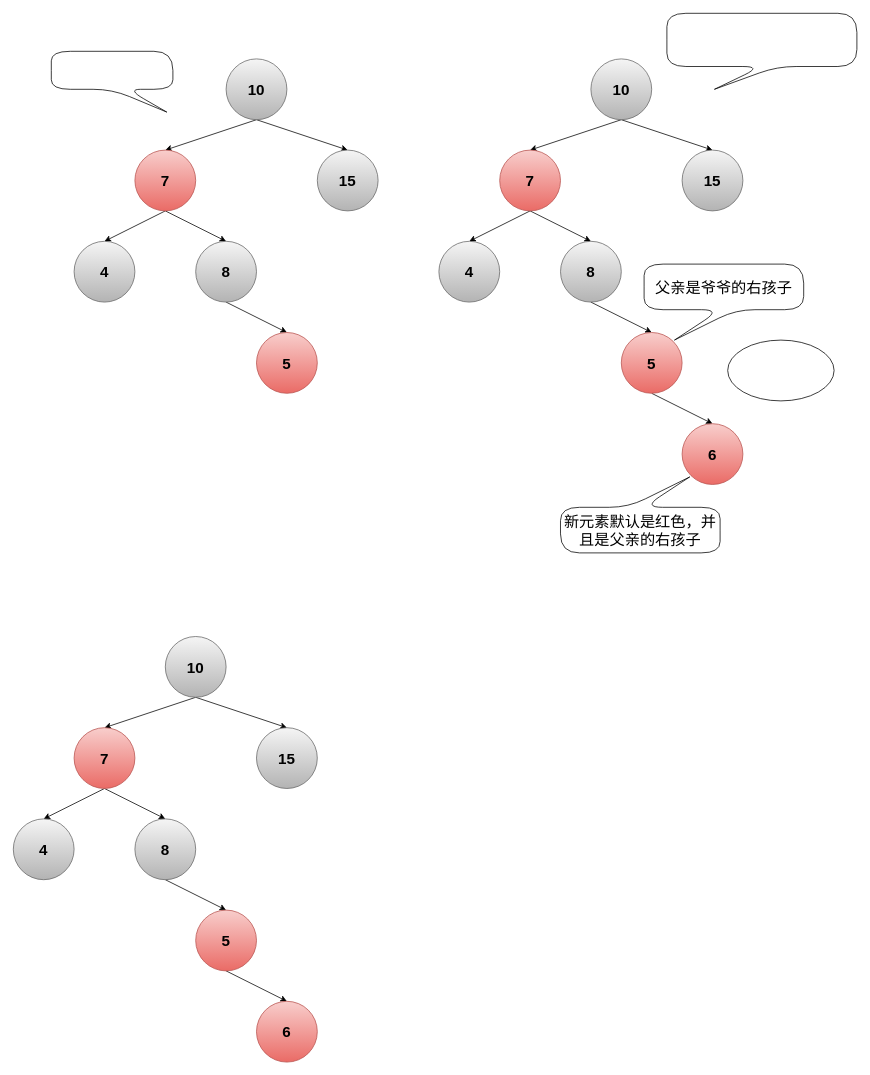
Some shapes in this 870 by 1075 pixel diagram are drawn without their labels. Each missing label, with the centre of its shape:
"已是平衡状态" goes at point 112,81.
"新增元素6，导致破坏性质4" goes at point 761,51.
"这种情况属于右右" goes at point 780,370.
